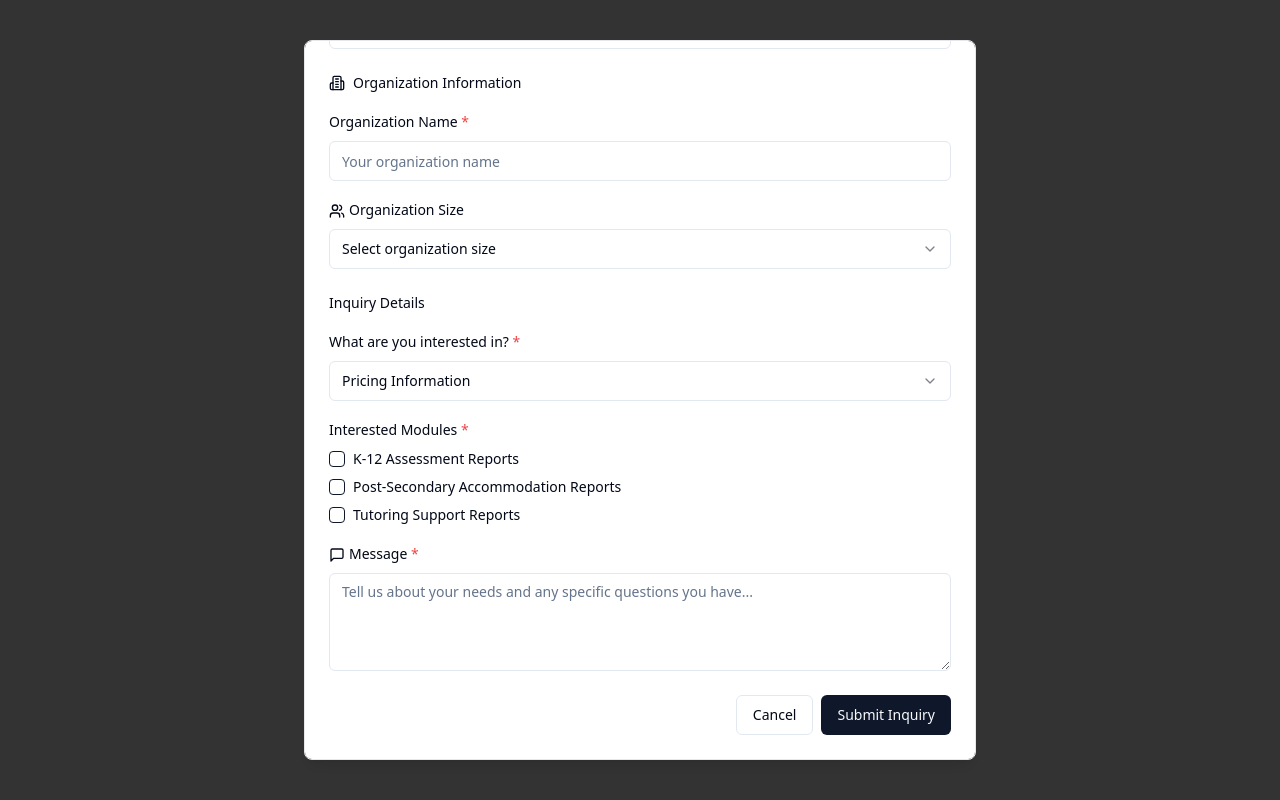
Scenario: Support and Sales Modals › SalesInquiryModal › validates required fields
(page scrolled)
Click the button "Submit Inquiry" at [886, 715], box [822,695,951,735]
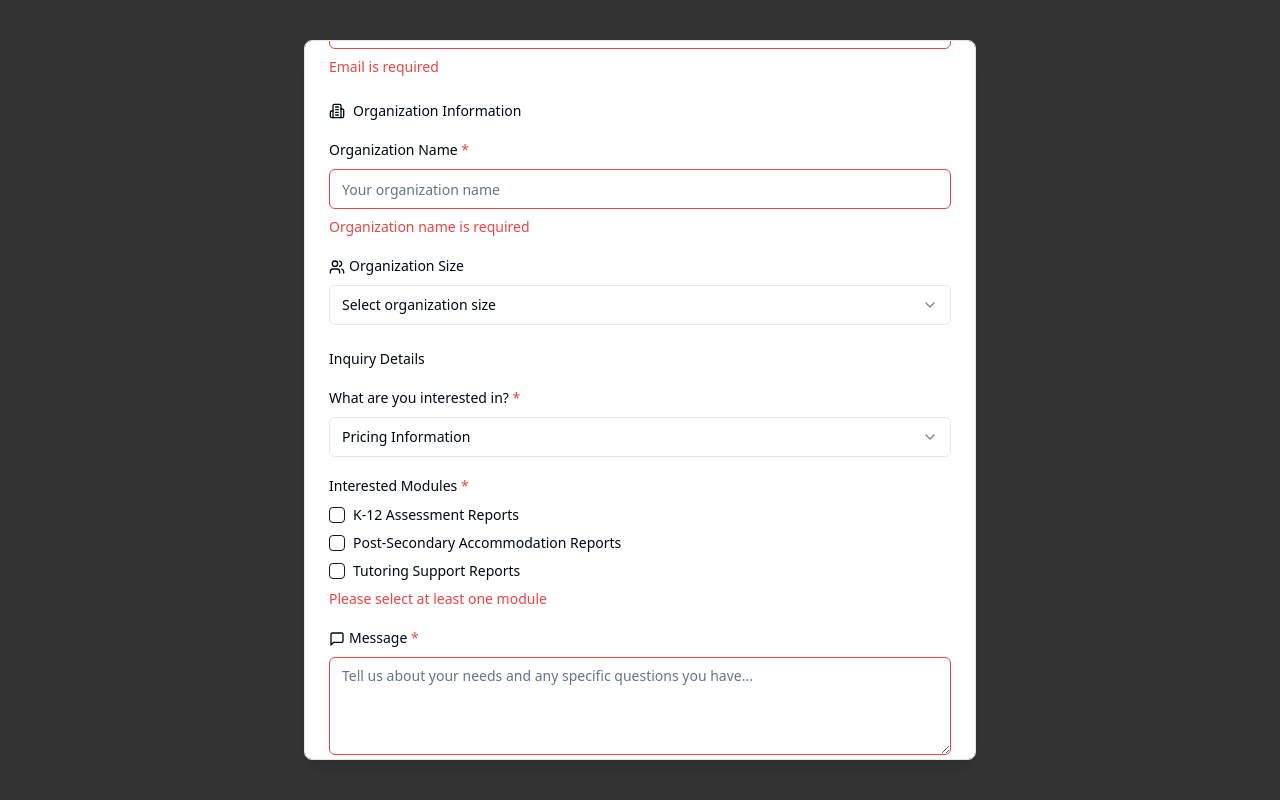
Now the text "Email is required" is shown, box [329,57,439,76]
